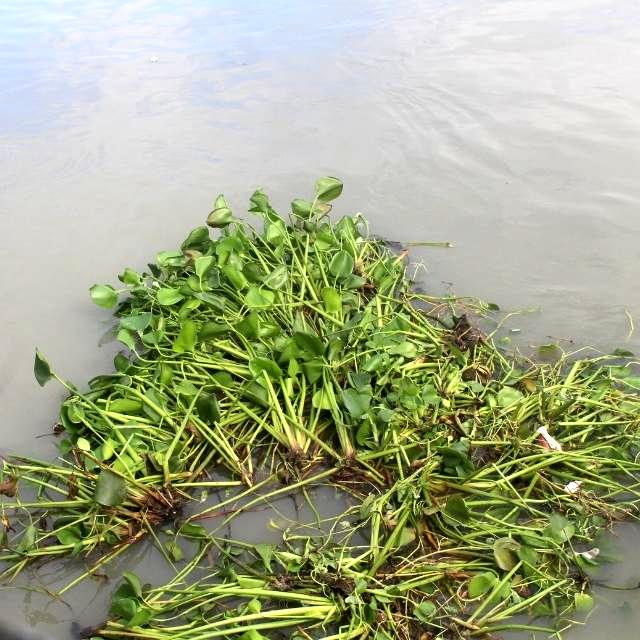water-hyacinth: (125, 349, 640, 637), (1, 187, 418, 511)
